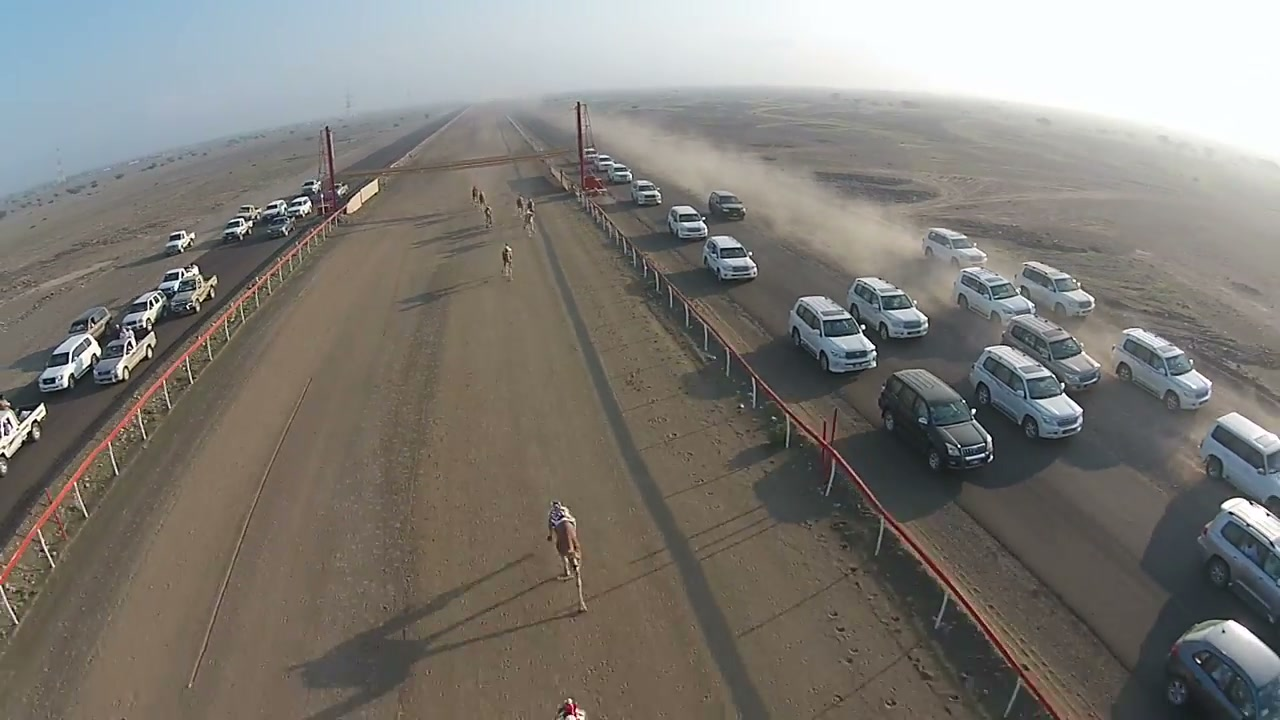animal_footprint: (595, 317, 900, 715)
